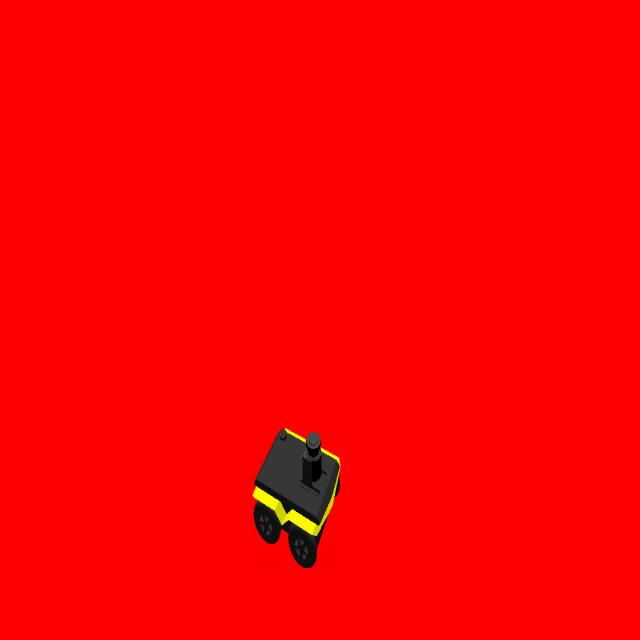jackal: (251, 426, 341, 571)
